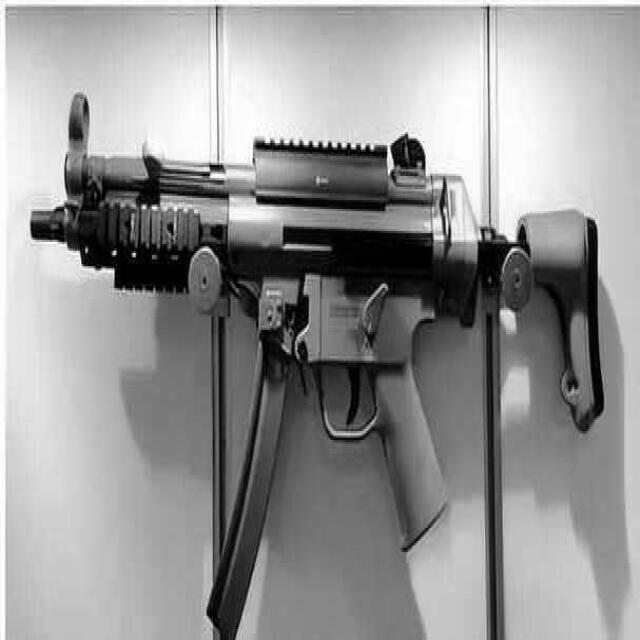gun: (29, 88, 604, 636)
